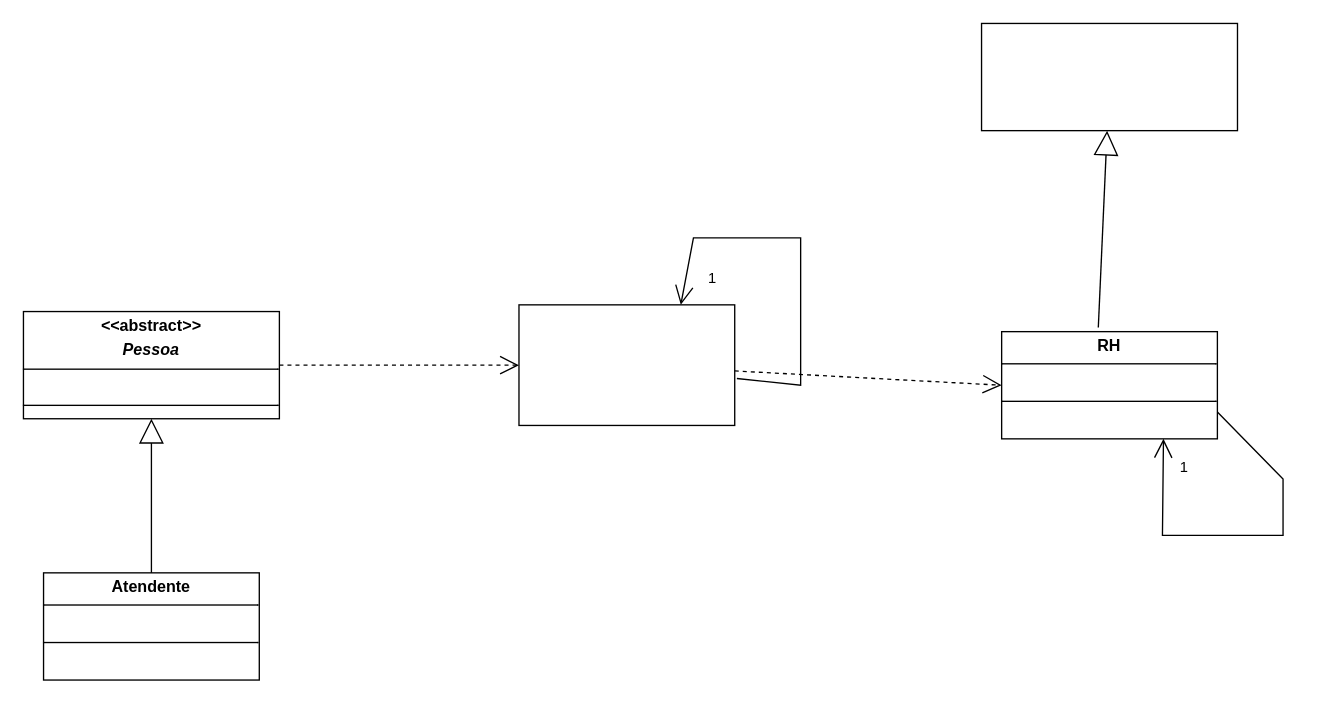
The diagram is 1325 pixels wide and 704 high, and some of its shapes have lost their labels. Each missing label, with the centre of its shape:
<< interface >> Setor: point 1108,76
Ouvidoria: point 626,364
